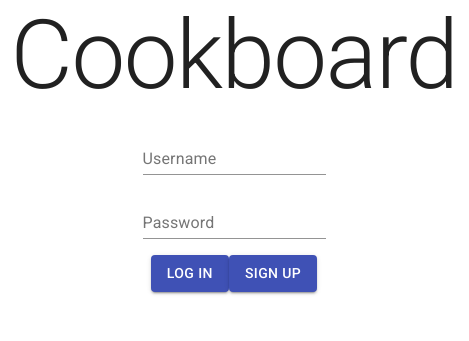
Test: tests for LoginWindow. › With no user credentials stored › an error message is displayed if the password you enter is incorrect
The width and height of the screenshot is (469, 341).
In the field with test id "inputUsername": (234, 159) [142,143,326,175], type "someguy"
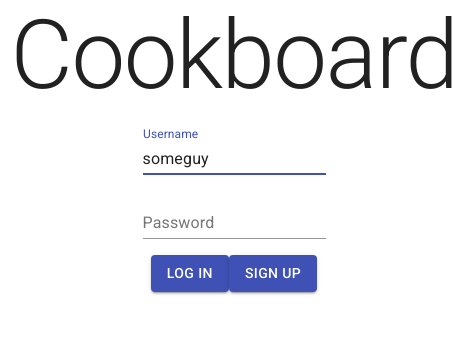
In the password field with test id "inputPassword": (234, 223) [142,207,326,239], type "something"
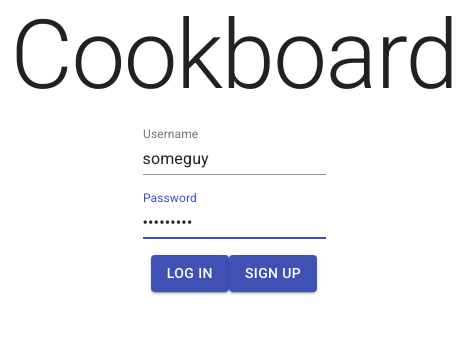
Click the button with test id "buttonLogin": (190, 273) [151,255,229,292]
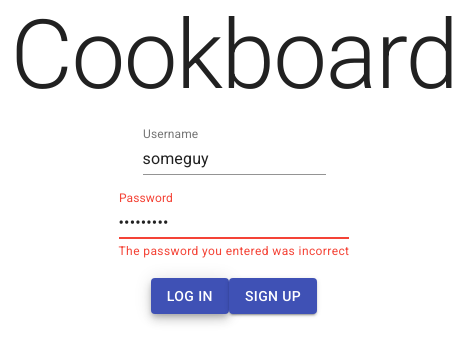
Expected: the text "The password you entered was incorrect" is shown, [119,242,350,262]
